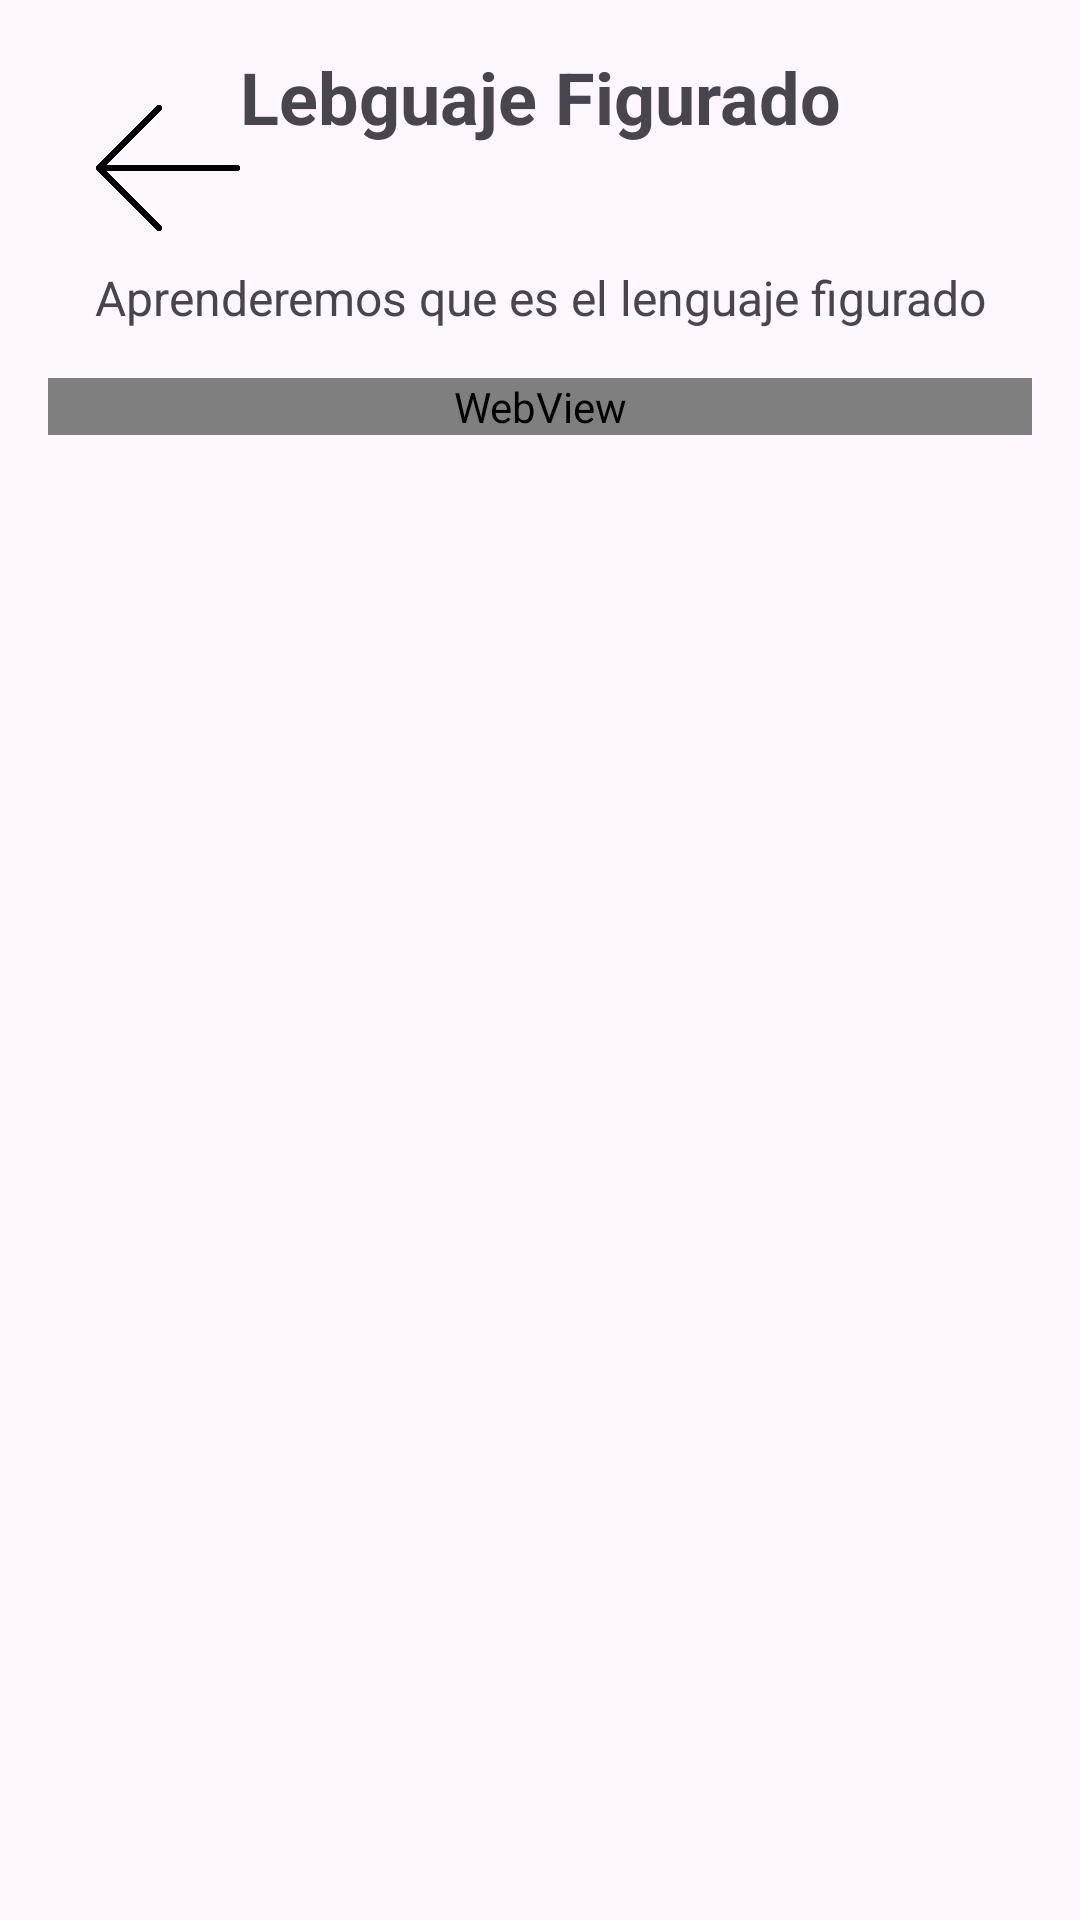

Icons on this 1080x1920 Android screen, each with the point to tap as point (x, y):
Botón de volver: point (168, 168)
